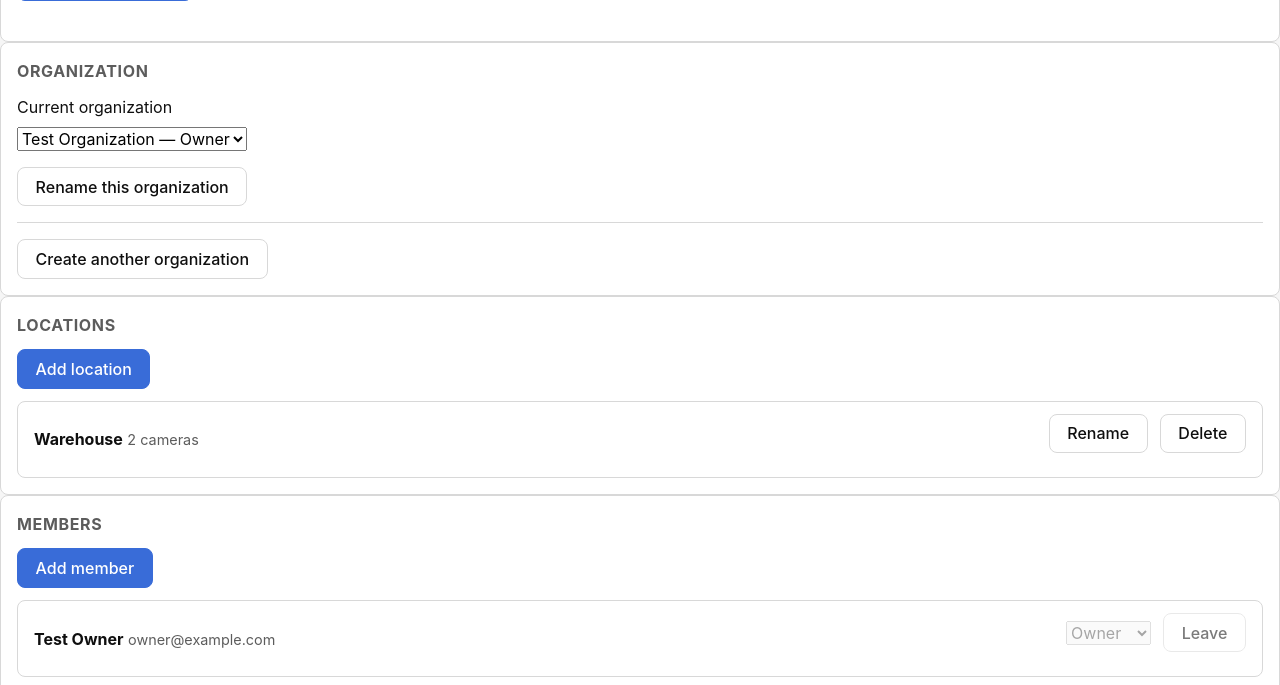
Test: AccountPage › shows the backend's error when deleting a non-empty location fails
The width and height of the screenshot is (1280, 685).
(page scrolled)
Click the button "Delete". click: click(1203, 433)
box: [1160,414,1246,453]
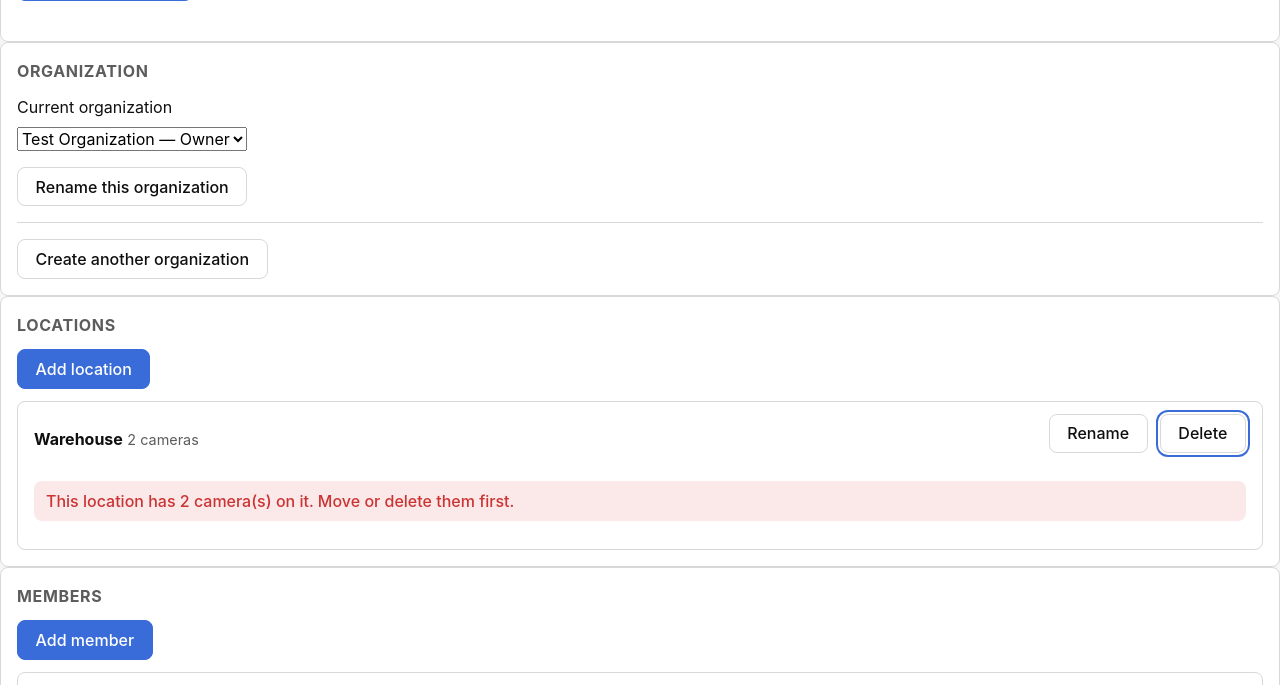
Result: the text "This location has 2 camera(s) on it. Move or delete them first." is shown at [34,481,1246,521]
